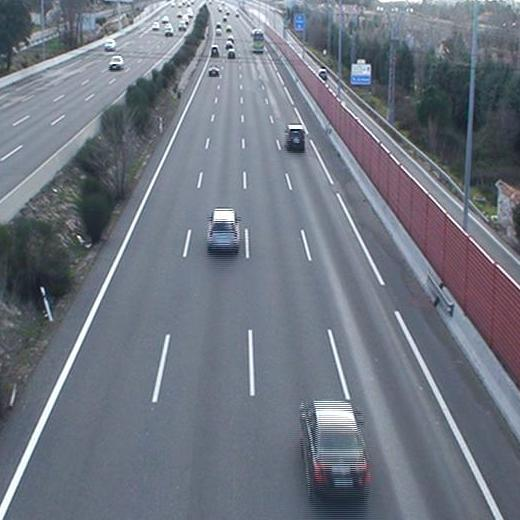bus: (250, 29, 265, 55)
car: (297, 400, 372, 498), (207, 206, 241, 251), (285, 124, 306, 153), (207, 63, 220, 77), (210, 44, 221, 59), (226, 48, 237, 58)
